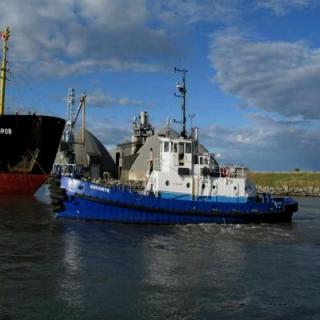Tug Boat: (54, 81, 296, 224)
